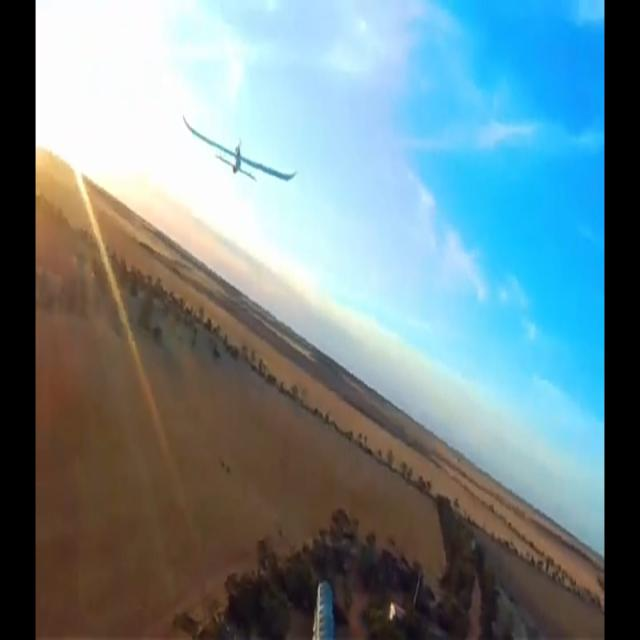iha: (214, 142, 266, 156)
